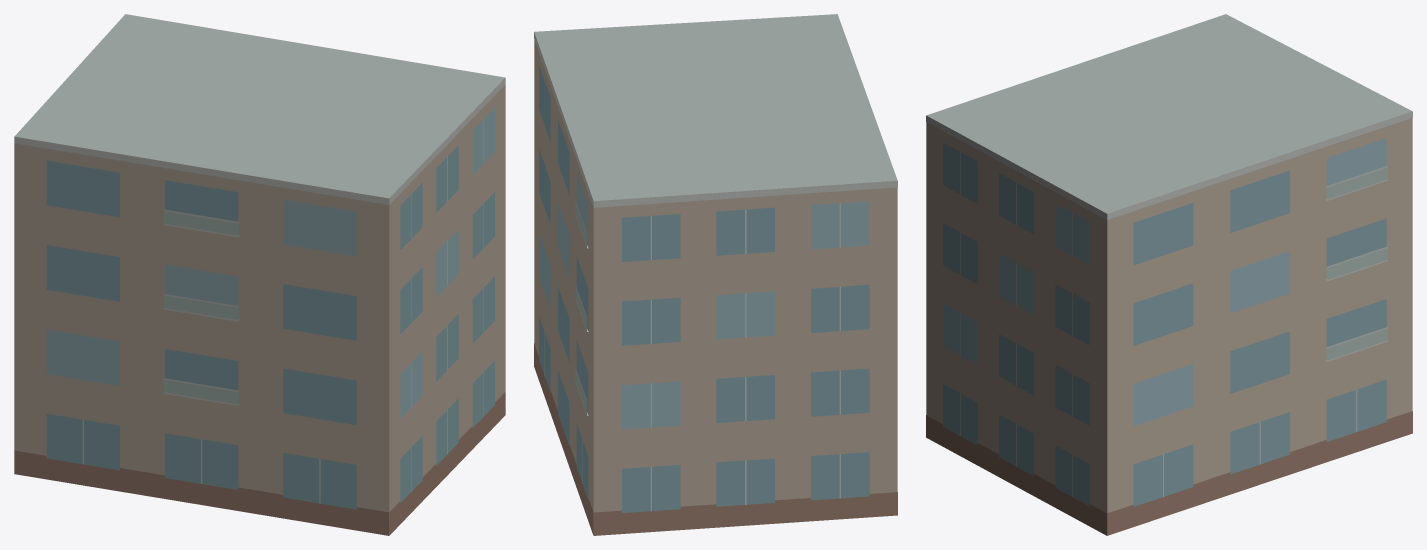
Rendered from survey-upis-32490802.glb.
3 renders of one model, left to right at view 1: azimuth 30°, elevation 25°; view 2: azimuth 150°, elevation 25°; view 3: azimuth 270°, elevation 25°, orthographic. The views are drawn at different scales.
Visible parts, largest first — view 1: survey-upis-32490802.tmp; view 2: survey-upis-32490802.tmp; view 3: survey-upis-32490802.tmp.
Part boxes in pixels (bbox=[...]): survey-upis-32490802.tmp: bbox=[14, 14, 505, 535]; survey-upis-32490802.tmp: bbox=[534, 14, 897, 535]; survey-upis-32490802.tmp: bbox=[926, 14, 1412, 535].
Bounding box in the file's own units: 16.37 × 12.3 × 16.85.
